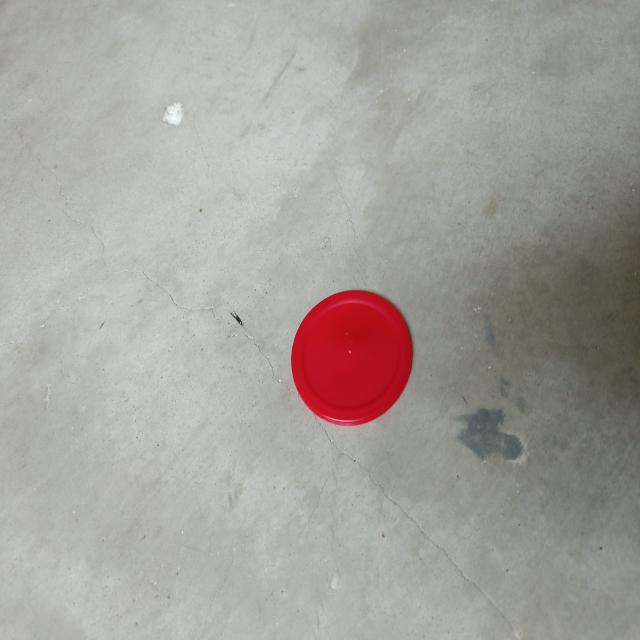chip: (291, 288, 411, 424)
